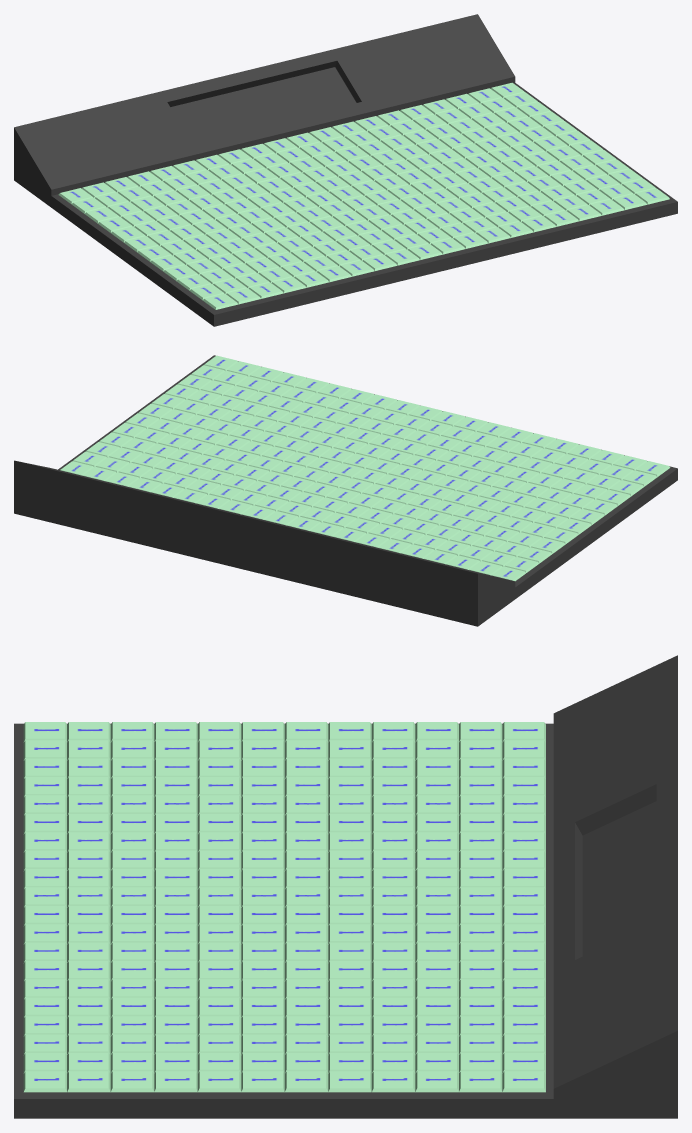
Rendered from Stressful Minesweeper.fbx.
The picture shows the model from 3 angles, top to bottom: view 1: azimuth 30°, elevation 25°; view 2: azimuth 150°, elevation 25°; view 3: azimuth 270°, elevation 25°; orthographic projection. The views are drawn at different scales.
Parts seen in each view (by area): view 1: Console; view 2: Console; view 3: Console, Mine.119, Mine.159, Mine.079, Mine.199, Mine.019, Mine.059, Mine.099, Mine.139, Mine.179, Mine.219, Mine.039 (+229 smaller).
Part boxes in pixels (x1,y1,x2,y2): Console: (14,14,677,326); Console: (14,355,677,626); Console: (14,655,677,1118); Mine.119: (284,1071,328,1092); Mine.159: (197,1071,241,1092); Mine.079: (371,1071,415,1092); Mine.199: (110,1071,154,1092); Mine.019: (502,1071,545,1092); Mine.059: (415,1071,458,1092); Mine.099: (328,1071,371,1092); Mine.139: (241,1071,284,1092); Mine.179: (154,1071,197,1092); Mine.219: (67,1071,110,1092); Mine.039: (459,1071,502,1092).
Bounding box in the file's own units: 4084 × 447 × 3051.
